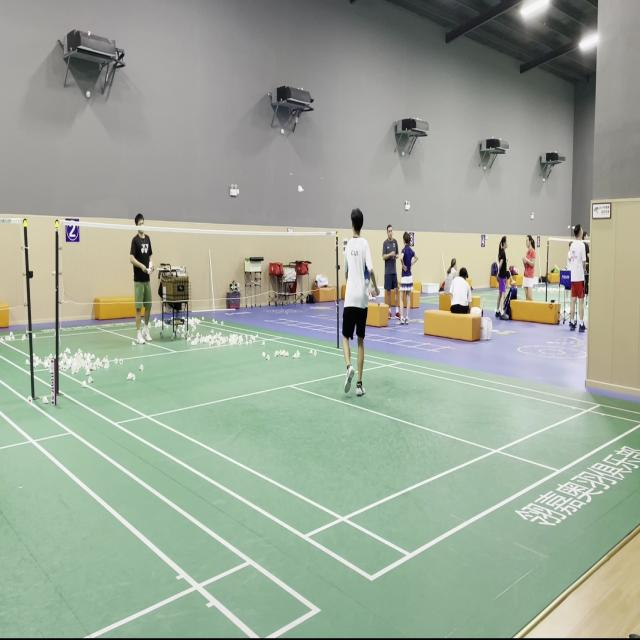shuttlecock: (298, 184, 304, 193)
